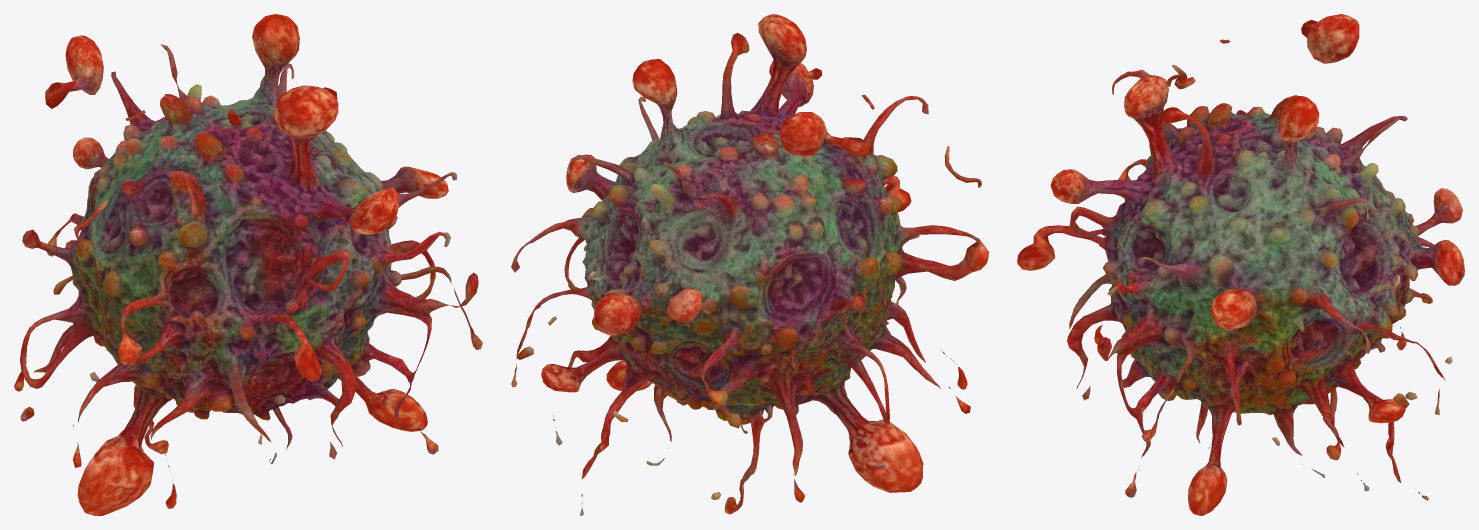
File: blister.glb
The picture shows the model from 3 angles, left to right: view 1: azimuth 30°, elevation 25°; view 2: azimuth 150°, elevation 25°; view 3: azimuth 270°, elevation 25°; orthographic projection. The views are drawn at different scales.
Parts seen in each view (by area): view 1: attack-membrane; view 2: attack-membrane; view 3: attack-membrane.
Part boxes in pixels (x1,y1,x2,y2): attack-membrane: [14, 14, 482, 515]; attack-membrane: [511, 14, 988, 515]; attack-membrane: [1017, 14, 1464, 515].
Size of the model in its own units: 1.95 by 2.04 by 2.02.
Materials: 1 (1 with a texture image).
